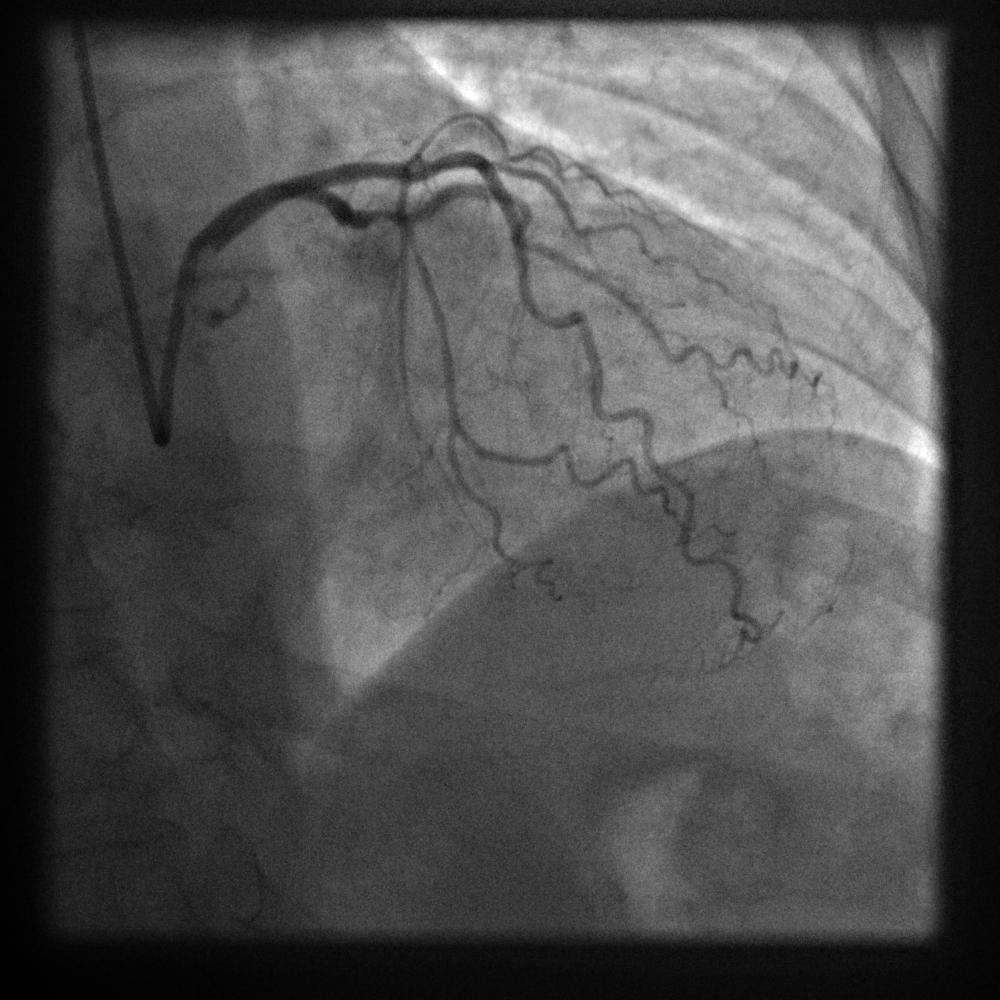Stenosis: (338, 196, 423, 235)
